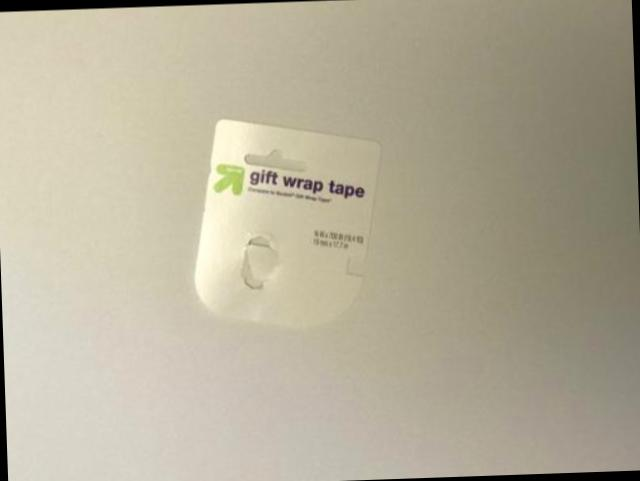cardboard paper: (193, 117, 378, 324)
